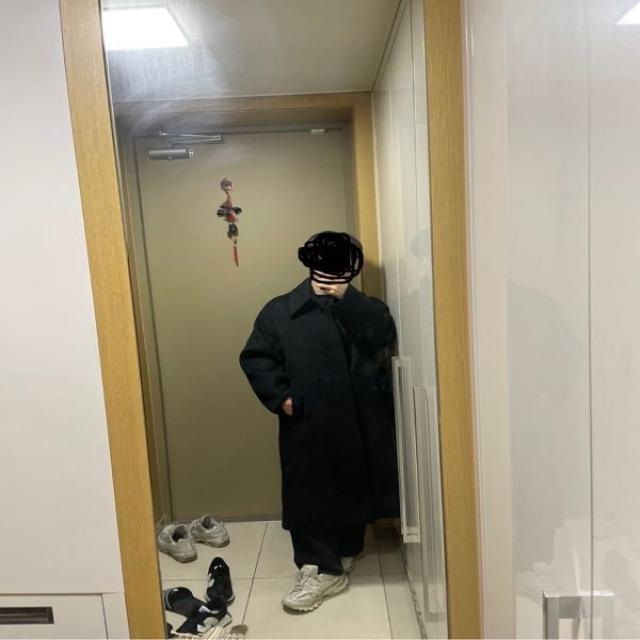coat: (243, 280, 401, 529)
slacks: (291, 526, 368, 576)
